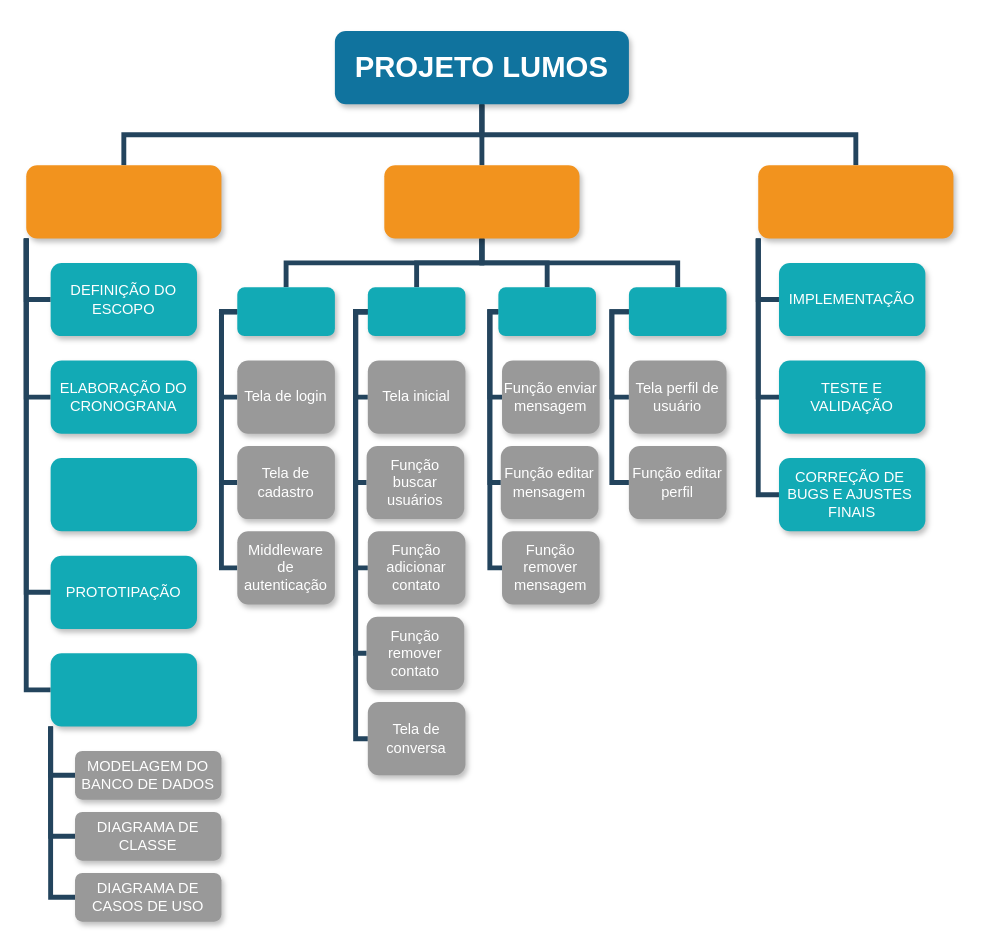
The diagram is 981 pixels wide and 952 high, and some of its shapes have lost their labels. Each missing label, with the centre of its shape:
"CONCLUSÃO E CONSIDERAÇÕES FINAIS" goes at point (856, 203).
"DESENVOLVIMENTO" goes at point (482, 203).
"DIAGRAMAÇÃO" goes at point (124, 691).
"LEVANTAMENTO DE REQUISITOS" goes at point (124, 496).
"PLANEJAMENTO E DOCUMENTAÇÃO" goes at point (124, 203).
"SPRINT 1" goes at point (287, 313).
"SPRINT 2" goes at point (417, 313).
"SPRINT 3" goes at point (548, 313).
"SPRINT 4" goes at point (678, 313).
